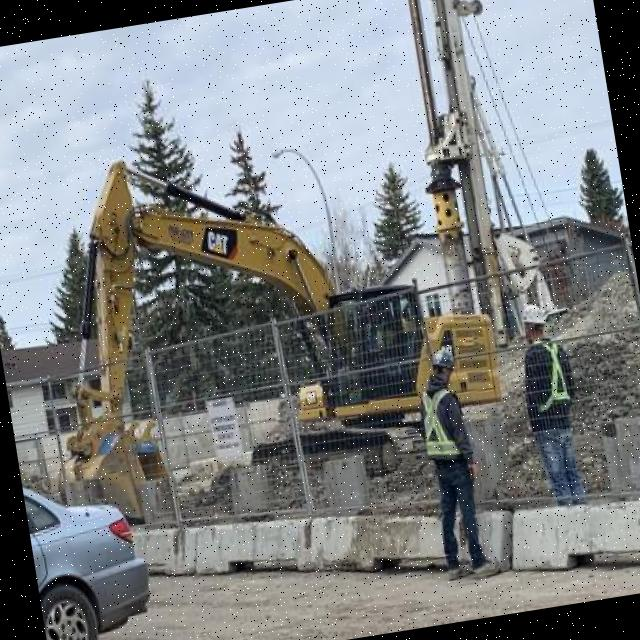Excavator: (12, 100, 516, 528)
